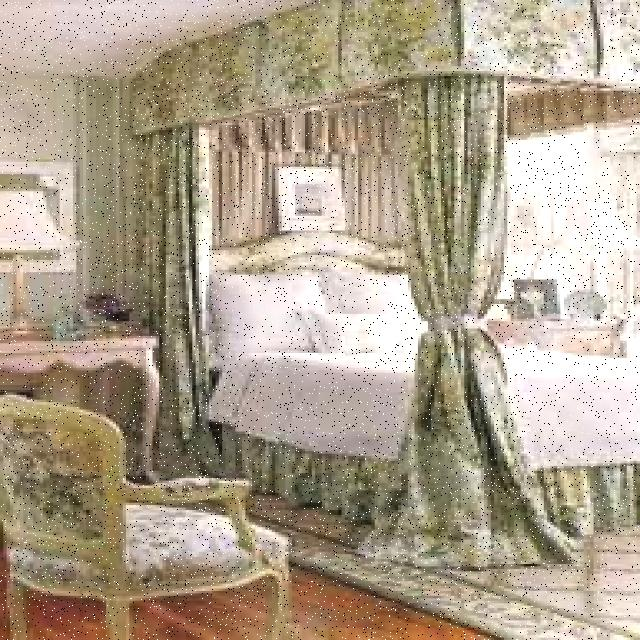bed: (177, 260, 640, 471)
